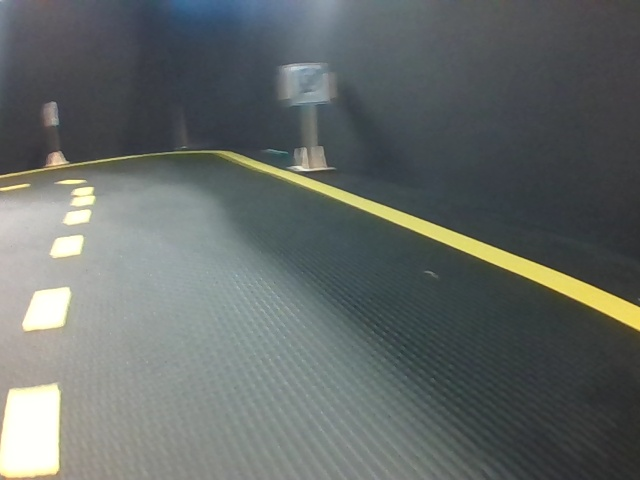no30: (289, 66, 326, 102)
